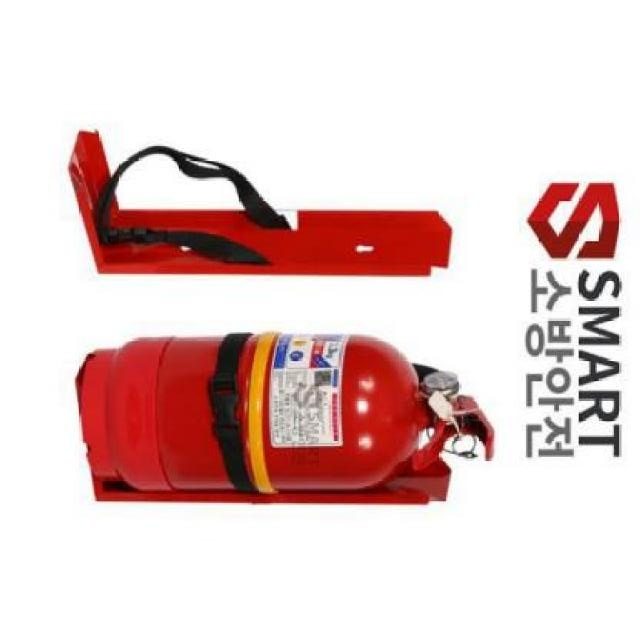fire extinguisher: (80, 330, 497, 493)
